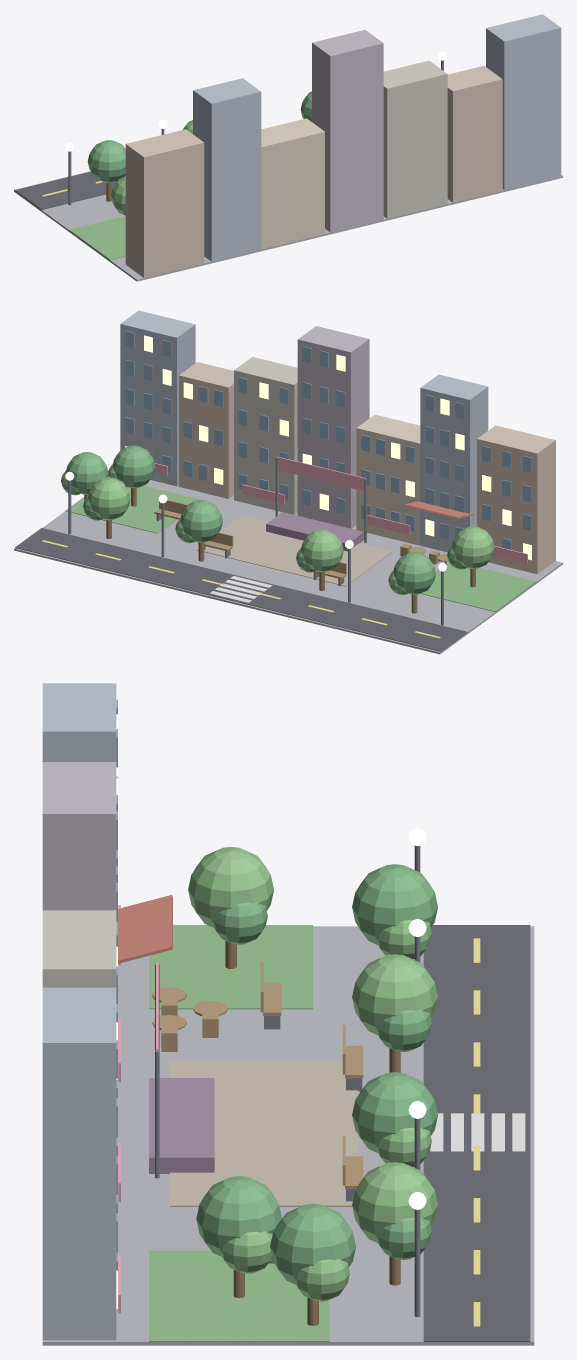
Rendered from street.glb.
The picture shows the model from 3 angles, top to bottom: view 1: azimuth 30°, elevation 25°; view 2: azimuth 150°, elevation 25°; view 3: azimuth 270°, elevation 25°; orthographic projection. The views are drawn at different scales.
Visible parts, largest first — view 1: building-3, building-0, building-6, building-1, building-4, building-2, building-5, ground-sidewalk, road, grass-west, tree-leaf-0, tree-leaf-5; view 2: ground-sidewalk, road, building-3, building-0, building-6, building-1, building-4, building-5, building-2, plaza, grass-west, grass-east (+12 smaller); view 3: ground-sidewalk, road, building-6, plaza, grass-east, building-3, grass-west, building-1, stage-deck, building-4, tree-leaf-1, tree-leaf-5 (+13 smaller).
Boxes of the visible parts, x1,y1,x2,y2 form: building-3: (312, 30, 383, 232); building-0: (125, 129, 204, 277); building-6: (486, 14, 561, 189); building-1: (193, 78, 261, 261); building-4: (383, 60, 447, 218); building-2: (261, 118, 324, 249); building-5: (447, 66, 502, 202); ground-sidewalk: (14, 171, 562, 281); road: (15, 171, 117, 209); grass-west: (69, 216, 125, 260); tree-leaf-0: (87, 140, 125, 182); tree-leaf-5: (111, 176, 125, 215); ground-sidewalk: (14, 480, 562, 654); road: (15, 528, 467, 651); building-3: (297, 326, 369, 528); building-0: (477, 425, 555, 574); building-6: (120, 310, 195, 486); building-1: (420, 374, 488, 552); building-4: (234, 357, 297, 514); building-5: (179, 362, 233, 498); building-2: (356, 414, 420, 545); plaza: (196, 515, 392, 586); grass-west: (420, 562, 536, 611); grass-east: (65, 485, 201, 533); ground-sidewalk: (42, 926, 534, 1345); road: (423, 925, 530, 1342); building-6: (42, 987, 116, 1340); plaza: (169, 1060, 358, 1206); grass-east: (149, 1250, 329, 1342); building-3: (42, 762, 116, 910); grass-west: (149, 925, 312, 1009); building-1: (42, 683, 116, 761); stage-deck: (149, 1078, 214, 1173); building-4: (42, 910, 116, 987); tree-leaf-1: (352, 954, 437, 1035); tree-leaf-5: (188, 847, 273, 927).
Bounding box in the file's own units: 24.25 × 9.6 × 12.
